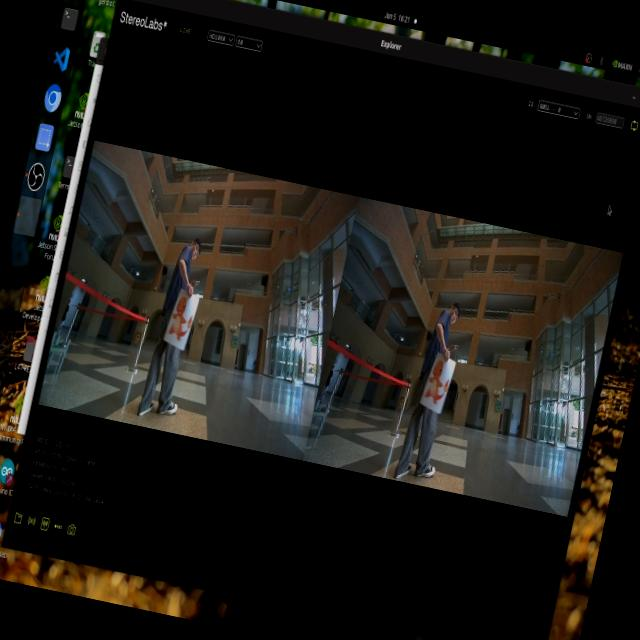red: (161, 294, 205, 359), (423, 352, 455, 411)
